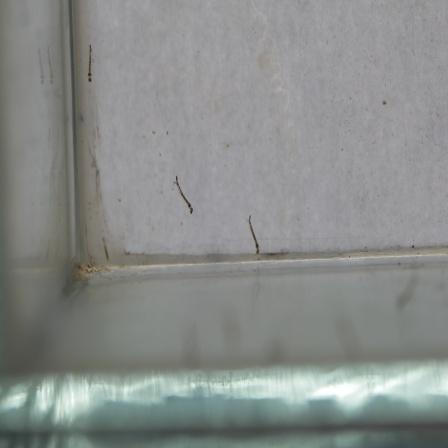Jentik-Nyamuk: (171, 172, 197, 218), (242, 212, 263, 256), (82, 41, 97, 86)
